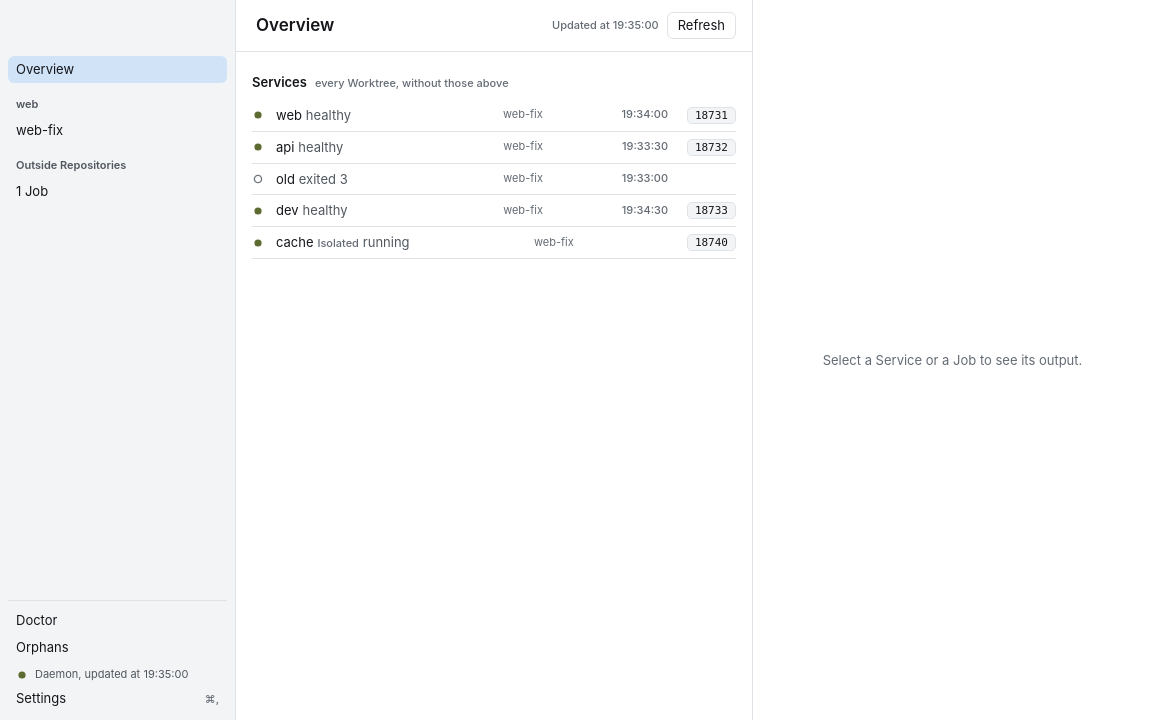
Test: the Worktree screen › lays the Foreign process inspector out as the mockup does: facts, then the sentence, then the copy box
The width and height of the screenshot is (1152, 720).
Click the button "web-fix" at (118, 130), box [8, 117, 227, 144]
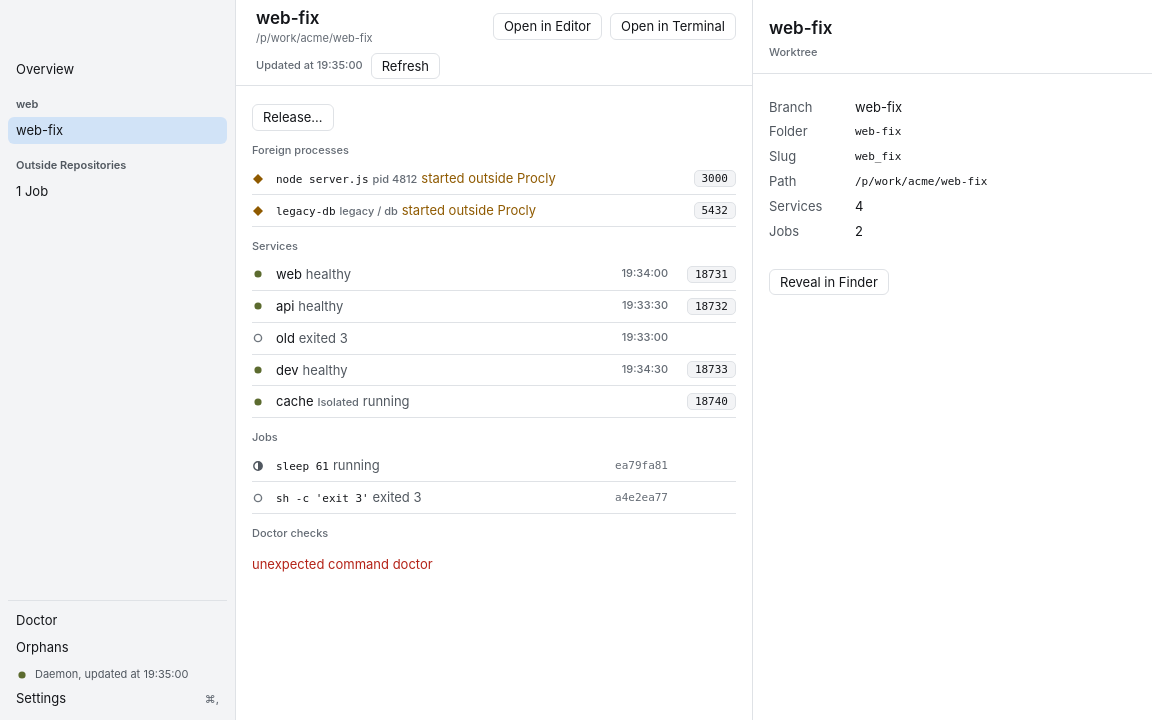
Check: the heading "Services" is shown, box [252, 239, 298, 253]
Click the button "node server.js" at (460, 179), box [252, 169, 668, 188]
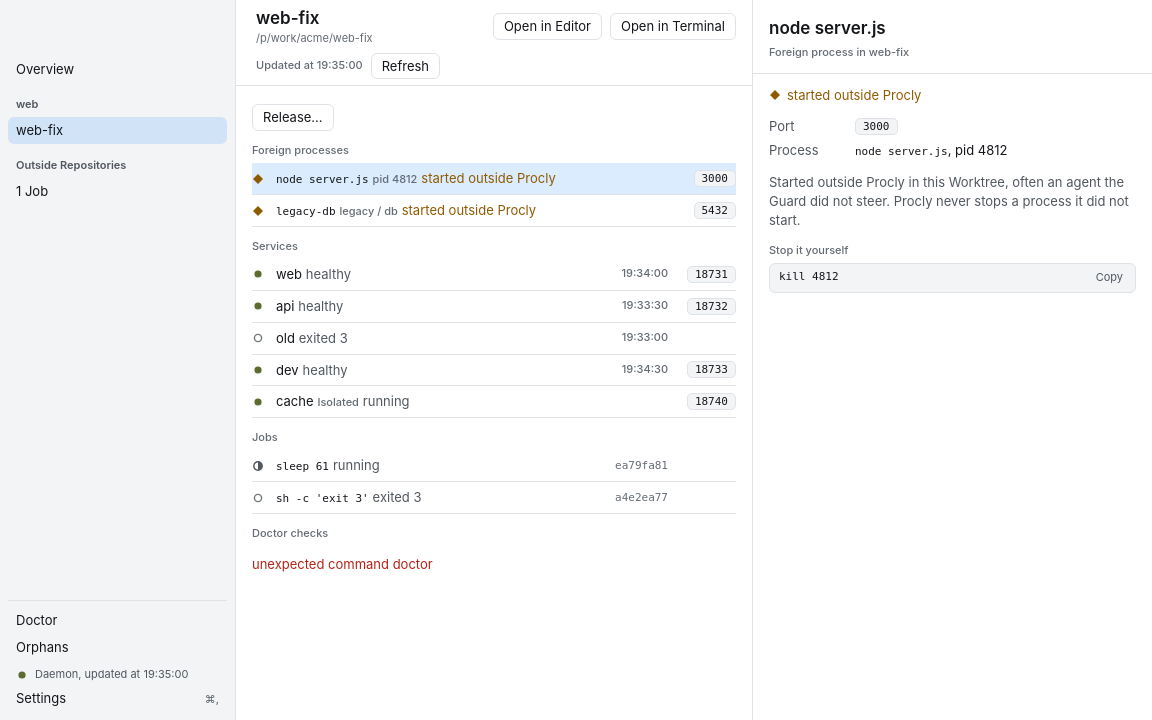
Check: the text "Branch" is gone
Check: the text "Folder" is gone
Check: the text "Slug" is gone
